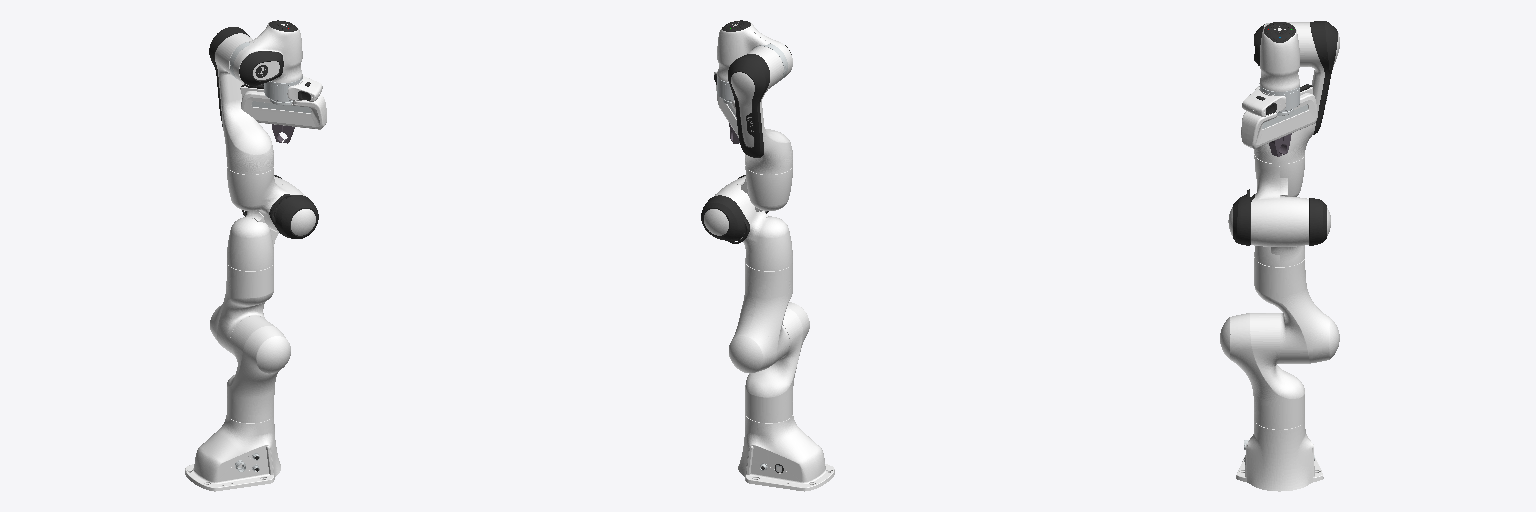
The robot description file, URDF, robot "panda":
<?xml version="1.0" ?>
<robot name="panda" xmlns:xacro="http://www.ros.org/wiki/xacro">

    <link name="world"/>
    <joint name="connect_root_and_world" type="fixed">
      <child link="panda_link0" />
      <parent link="world" />
      <origin xyz="0 0 0" rpy="0 0 0" />    
    </joint> 

    <link name="panda_link0">
        <visual>
            <geometry>
                <mesh filename="package://robot_description/meshes/visual/link0.dae" />
            </geometry>
        </visual>
        <collision>
            <geometry>
                <mesh filename="package://robot_description/meshes/collision/link0.stl" />
            </geometry>
        </collision>
	    <inertial>
		  <origin xyz="0 0 0.32"/>
		  <mass value="50"/> 
		  <inertia ixx="0.2" ixy="0" ixz="0" iyy="0.2" iyz="0" izz="0.4" />
	    </inertial>
    </link>
    <link name="panda_link1">
        <visual>
            <geometry>
                <mesh filename="package://robot_description/meshes/visual/link1.dae" />
            </geometry>
        </visual>
        <collision>
            <geometry>
                <mesh filename="package://robot_description/meshes/collision/link1.stl" />
            </geometry>
        </collision>
	    <inertial>
		  <origin xyz="0 0 0.32"/>
		  <mass value="0.5"/> 
		  <inertia ixx="0.002" ixy="0" ixz="0" iyy="0.002" iyz="0" izz="0.002" />
	    </inertial>
    </link>
    <joint name="panda_joint1" type="revolute">
        <safety_controller k_position="100.0" k_velocity="40.0" soft_lower_limit="-2.8973" soft_upper_limit="2.8973" />
        <origin rpy="0 0 0" xyz="0 0 0.333" />
        <parent link="panda_link0" />
        <child link="panda_link1" />
        <axis xyz="0 0 1" />
        <limit effort="87" lower="-2.9671" upper="2.9671" velocity="2.3925" />
    </joint>
    <link name="panda_link2">
        <visual>
            <geometry>
                <mesh filename="package://robot_description/meshes/visual/link2.dae" />
            </geometry>
        </visual>
        <collision>
            <geometry>
                <mesh filename="package://robot_description/meshes/collision/link2.stl" />
            </geometry>
        </collision>
	    <inertial>
		  <origin xyz="0 0 0.32"/>
		  <mass value="0.5"/> 
		  <inertia ixx="0.002" ixy="0" ixz="0" iyy="0.002" iyz="0" izz="0.002" />
	    </inertial>
    </link>
    <joint name="panda_joint2" type="revolute">
        <safety_controller k_position="100.0" k_velocity="40.0" soft_lower_limit="-1.7628" soft_upper_limit="1.7628" />
        <origin rpy="-1.57079632679 0 0" xyz="0 0 0" />
        <parent link="panda_link1" />
        <child link="panda_link2" />
        <axis xyz="0 0 1" />
        <limit effort="87" lower="-1.8326" upper="1.8326" velocity="2.3925" />
    </joint>
    <link name="panda_link3">
        <visual>
            <geometry>
                <mesh filename="package://robot_description/meshes/visual/link3.dae" />
            </geometry>
        </visual>
        <collision>
            <geometry>
                <mesh filename="package://robot_description/meshes/collision/link3.stl" />
            </geometry>
        </collision>
	    <inertial>
		  <origin xyz="0 0 0.32"/>
		  <mass value="0.5"/> 
		  <inertia ixx="0.002" ixy="0" ixz="0" iyy="0.002" iyz="0" izz="0.002" />
	    </inertial>
    </link>
    <joint name="panda_joint3" type="revolute">
        <safety_controller k_position="100.0" k_velocity="40.0" soft_lower_limit="-2.8973" soft_upper_limit="2.8973" />
        <origin rpy="1.57079632679 0 0" xyz="0 -0.316 0" />
        <parent link="panda_link2" />
        <child link="panda_link3" />
        <axis xyz="0 0 1" />
        <limit effort="87" lower="-2.9671" upper="2.9671" velocity="2.3925" />
    </joint>
    <link name="panda_link4">
        <visual>
            <geometry>
                <mesh filename="package://robot_description/meshes/visual/link4.dae" />
            </geometry>
        </visual>
        <collision>
            <geometry>
                <mesh filename="package://robot_description/meshes/collision/link4.stl" />
            </geometry>
        </collision>
	    <inertial>
		  <origin xyz="0 0 0.32"/>
		  <mass value="0.5"/> 
		  <inertia ixx="0.002" ixy="0" ixz="0" iyy="0.002" iyz="0" izz="0.002" />
	    </inertial>
    </link>
    <joint name="panda_joint4" type="revolute">
        <safety_controller k_position="100.0" k_velocity="40.0" soft_lower_limit="-3.0718" soft_upper_limit="0.0175" />
        <origin rpy="1.57079632679 0 0" xyz="0.0825 0 0" />
        <parent link="panda_link3" />
        <child link="panda_link4" />
        <axis xyz="0 0 1" />
        <limit effort="87" lower="-3.1416" upper="0.0873" velocity="2.3925" />
    </joint>
    <link name="panda_link5">
        <visual>
            <geometry>
                <mesh filename="package://robot_description/meshes/visual/link5.dae" />
            </geometry>
        </visual>
        <collision>
            <geometry>
                <mesh filename="package://robot_description/meshes/collision/link5.stl" />
            </geometry>
        </collision>
	    <inertial>
		  <origin xyz="0 0 0.32"/>
		  <mass value="0.5"/> 
		  <inertia ixx="0.002" ixy="0" ixz="0" iyy="0.002" iyz="0" izz="0.002" />
	    </inertial>
    </link>
    <joint name="panda_joint5" type="revolute">
        <safety_controller k_position="100.0" k_velocity="40.0" soft_lower_limit="-2.8973" soft_upper_limit="2.8973" />
        <origin rpy="-1.57079632679 0 0" xyz="-0.0825 0.384 0" />
        <parent link="panda_link4" />
        <child link="panda_link5" />
        <axis xyz="0 0 1" />
        <limit effort="12" lower="-2.9671" upper="2.9671" velocity="2.8710" />
    </joint>
    <link name="panda_link6">
        <visual>
            <geometry>
                <mesh filename="package://robot_description/meshes/visual/link6.dae" />
            </geometry>
        </visual>
        <collision>
            <geometry>
                <mesh filename="package://robot_description/meshes/collision/link6.stl" />
            </geometry>
        </collision>
	    <inertial>
		  <origin xyz="0 0 0.32"/>
		  <mass value="0.5"/> 
		  <inertia ixx="0.002" ixy="0" ixz="0" iyy="0.002" iyz="0" izz="0.002" />
	    </inertial>
    </link>
    <joint name="panda_joint6" type="revolute">
        <safety_controller k_position="100.0" k_velocity="40.0" soft_lower_limit="-0.0175" soft_upper_limit="3.7525" />
        <origin rpy="1.57079632679 0 0" xyz="0 0 0" />
        <parent link="panda_link5" />
        <child link="panda_link6" />
        <axis xyz="0 0 1" />
        <limit effort="12" lower="-0.0873" upper="3.8223" velocity="2.8710" />
    </joint>
    <link name="panda_link7">
        <visual>
            <geometry>
                <mesh filename="package://robot_description/meshes/visual/link7.dae" />
            </geometry>
        </visual>
        <collision>
            <geometry>
                <mesh filename="package://robot_description/meshes/collision/link7.stl" />
            </geometry>
        </collision>
	    <inertial>
		  <origin xyz="0 0 0.32"/>
		  <mass value="0.5"/> 
		  <inertia ixx="0.002" ixy="0" ixz="0" iyy="0.002" iyz="0" izz="0.002" />
	    </inertial>
    </link>
    <joint name="panda_joint7" type="revolute">
        <safety_controller k_position="100.0" k_velocity="40.0" soft_lower_limit="-2.8973" soft_upper_limit="2.8973" />
        <origin rpy="1.57079632679 0 0" xyz="0.088 0 0" />
        <parent link="panda_link6" />
        <child link="panda_link7" />
        <axis xyz="0 0 1" />
        <limit effort="12" lower="-2.9671" upper="2.9671" velocity="2.8710" />
    </joint>
    <link name="panda_link8" />
    <joint name="panda_joint8" type="fixed">
        <origin rpy="0 0 0" xyz="0 0 0.107" />
        <parent link="panda_link7" />
        <child link="panda_link8" />
        <axis xyz="0 0 0" />
    </joint>
    <joint name="panda_hand_joint" type="fixed">
        <parent link="panda_link8" />
        <child link="panda_hand" />
        <origin rpy="0 0 -0.785398163397" xyz="0 0 0" />
    </joint>
    <link name="panda_hand">
        <visual>
            <geometry>
                <mesh filename="package://robot_description/meshes/visual/hand.dae" />
            </geometry>
        </visual>
        <collision>
            <geometry>
                <mesh filename="package://robot_description/meshes/collision/hand.stl" />
            </geometry>
        </collision>
	    <inertial>
		  <origin xyz="0 0 0.32"/>
		  <mass value="0.5"/> 
		  <inertia ixx="0.002" ixy="0" ixz="0" iyy="0.002" iyz="0" izz="0.002" />
	    </inertial>
    </link>
    <link name="panda_leftfinger">
        <visual>
            <geometry>
                <mesh filename="package://robot_description/meshes/visual/finger.dae" />
            </geometry>
        </visual>
        <collision>
            <geometry>
                <mesh filename="package://robot_description/meshes/collision/finger.stl" />
            </geometry>
        </collision>
	    <inertial>
		  <origin xyz="0 0 0.32"/>
		  <mass value="0.5"/> 
		  <inertia ixx="0.002" ixy="0" ixz="0" iyy="0.002" iyz="0" izz="0.002" />
	    </inertial>
    </link>
    <link name="panda_rightfinger">
        <visual>
            <origin rpy="0 0 3.14159265359" xyz="0 0 0" />
            <geometry>
                <mesh filename="package://robot_description/meshes/visual/finger.dae" />
            </geometry>
        </visual>
        <collision>
            <origin rpy="0 0 3.14159265359" xyz="0 0 0" />
            <geometry>
                <mesh filename="package://robot_description/meshes/collision/finger.stl" />
            </geometry>
        </collision>
	    <inertial>
		  <origin xyz="0 0 0.32"/>
		  <mass value="0.5"/> 
		  <inertia ixx="0.002" ixy="0" ixz="0" iyy="0.002" iyz="0" izz="0.002" />
	    </inertial>
    </link>
    <joint name="panda_finger_joint1" type="prismatic">
        <parent link="panda_hand" />
        <child link="panda_leftfinger" />
        <origin rpy="0.0 0.0 0.0" xyz="0.0 0.0 0.0584" />
        <axis xyz="0 1 0" />
        <limit effort="40.0" lower="0.0" upper="0.04" velocity="100.0" />
    </joint>
    <joint name="panda_finger_joint2" type="prismatic">
        <parent link="panda_hand" />
        <child link="panda_rightfinger" />
        <origin rpy="0.0 0.0 0.0" xyz="0.0 0.0 0.0584" />
        <axis xyz="0 -1 0" />
        <limit effort="40.0" lower="0.0" upper="0.04" velocity="100.0" />
        <mimic joint="panda_finger_joint1" />
    </joint>
    
    <!-- https://github.com/ros-controls/gazebo_ros2_control/issues/173#issuecomment-[number redacted] -->
    <joint name="panda_finger_joint2_mimic" type="fixed">
        <parent link="panda_hand" />
        <child link="random" />
    </joint>
    <link name="random"/>
</robot>

--- Render facts (derived) ---
3 views of the same robot in one strip: view 1: azimuth 30°, elevation 25°; view 2: azimuth 150°, elevation 25°; view 3: azimuth 270°, elevation 25° (orthographic).
Model panda with 14 links and 13 joints (7 revolute, 2 prismatic, 4 fixed), rooted at world, posed all joints at 0.
Visible links, largest first — view 1: panda_link0, panda_link1, panda_link5, panda_link4, panda_link6, panda_link2, panda_link3, panda_hand, panda_link7; view 2: panda_link0, panda_link5, panda_link2, panda_link3, panda_link1, panda_link6, panda_link4; view 3: panda_link1, panda_link2, panda_link0, panda_link4, panda_link5, panda_link3, panda_link6, panda_hand, panda_link7.
Link boxes in pixels (<box>): panda_link0: <box>185,415,280,491</box>; panda_link1: <box>227,316,290,422</box>; panda_link5: <box>209,27,273,174</box>; panda_link4: <box>227,167,318,238</box>; panda_link6: <box>230,20,302,85</box>; panda_link2: <box>210,264,273,355</box>; panda_link3: <box>227,175,291,270</box>; panda_hand: <box>240,84,326,129</box>; panda_link7: <box>262,76,322,102</box>; panda_link0: <box>738,414,834,491</box>; panda_link5: <box>728,46,792,174</box>; panda_link2: <box>729,262,792,373</box>; panda_link3: <box>701,184,792,270</box>; panda_link1: <box>745,302,809,422</box>; panda_link6: <box>717,20,792,81</box>; panda_link4: <box>726,165,792,213</box>; panda_link1: <box>1220,313,1304,429</box>; panda_link2: <box>1254,257,1339,363</box>; panda_link0: <box>1236,420,1323,491</box>; panda_link4: <box>1228,154,1304,246</box>; panda_link5: <box>1254,21,1339,163</box>; panda_link3: <box>1254,196,1330,266</box>; panda_link6: <box>1254,22,1299,91</box>; panda_hand: <box>1241,84,1317,148</box>; panda_link7: <box>1242,83,1299,116</box>.
Size in the robot's own frame: 0.3253 by 0.2593 by 1.11 metres.
Meshes: 10 distinct files referenced, 11 mesh visuals loaded (10 Collada DAE).